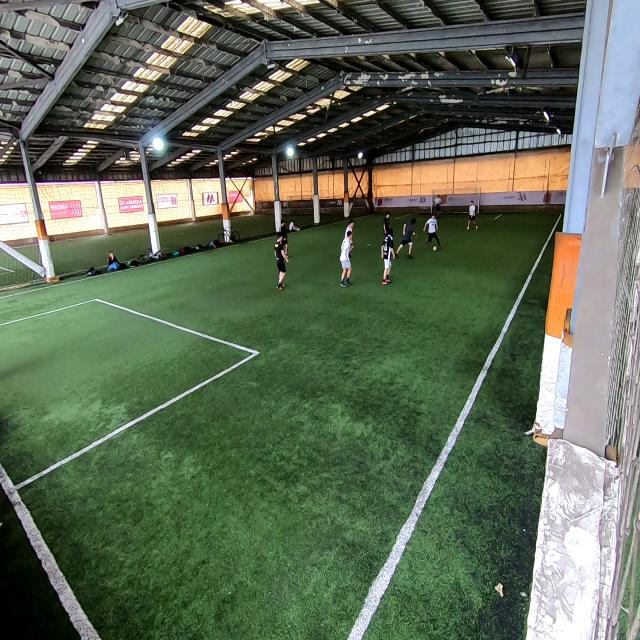BALON: (433, 246, 437, 251)
